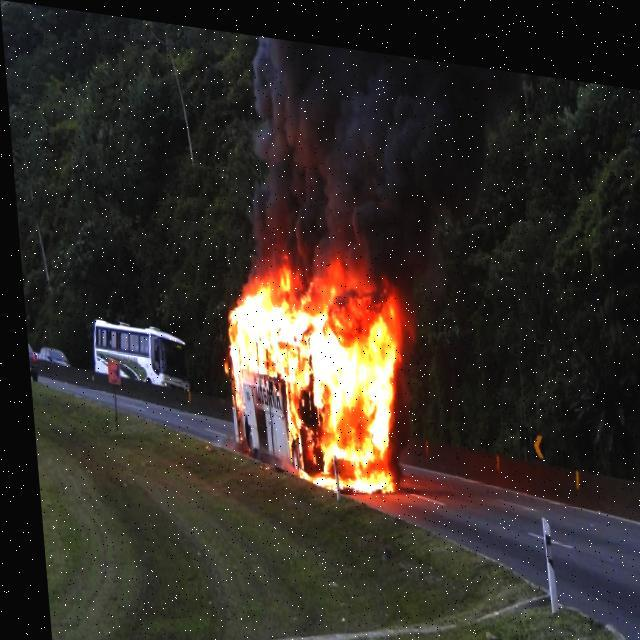Fire: (206, 240, 414, 500)
